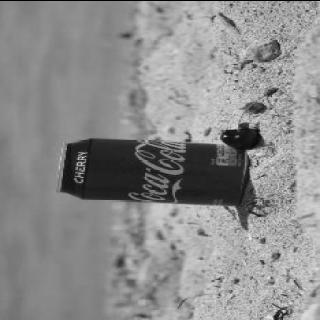alumunium_can: (55, 136, 246, 207)
